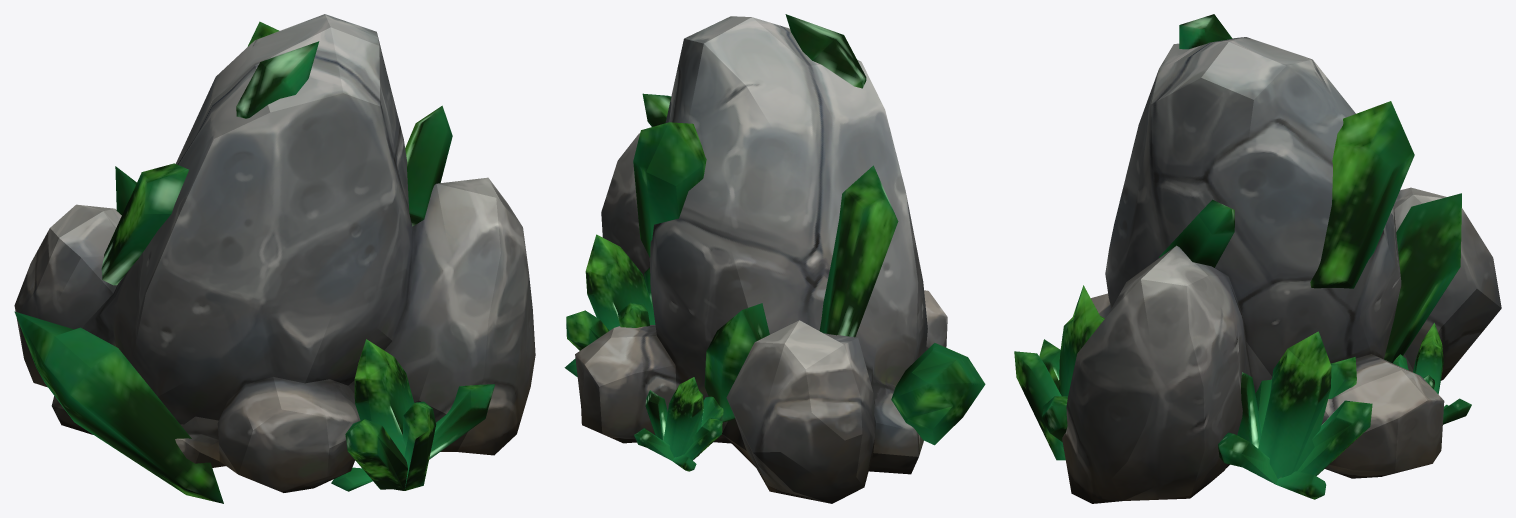
The model's file is Кристаллы.fbx.
3 renders of one model, left to right at view 1: azimuth 30°, elevation 25°; view 2: azimuth 150°, elevation 25°; view 3: azimuth 270°, elevation 25°, orthographic. The views are drawn at different scales.
Visible parts, largest first — view 1: rock.001; view 2: rock.001; view 3: rock.001.
Part boxes in pixels (x1,y1,x2,y2): rock.001: (14,14,535,503); rock.001: (564,14,985,503); rock.001: (1014,14,1501,503).
Bounding box in the file's own units: 1.75 × 1.67 × 1.82.
Materials: 2 (2 with a texture image).
